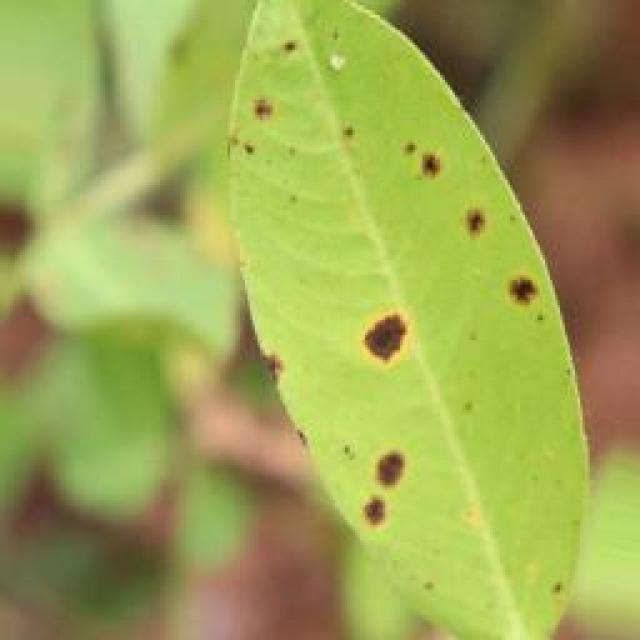Yellowish: (183, 10, 578, 594)
